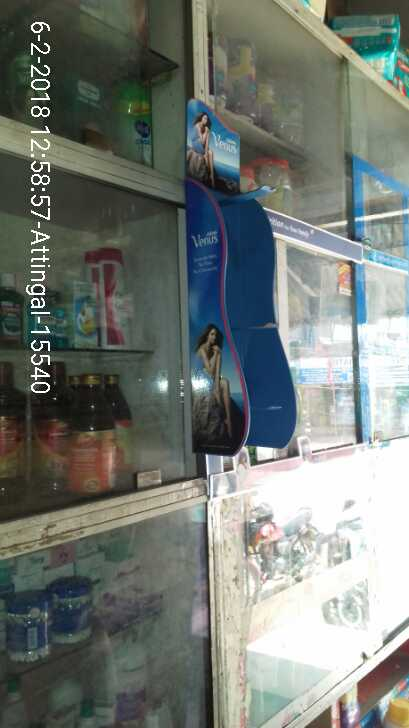reject: (173, 244, 220, 298)
